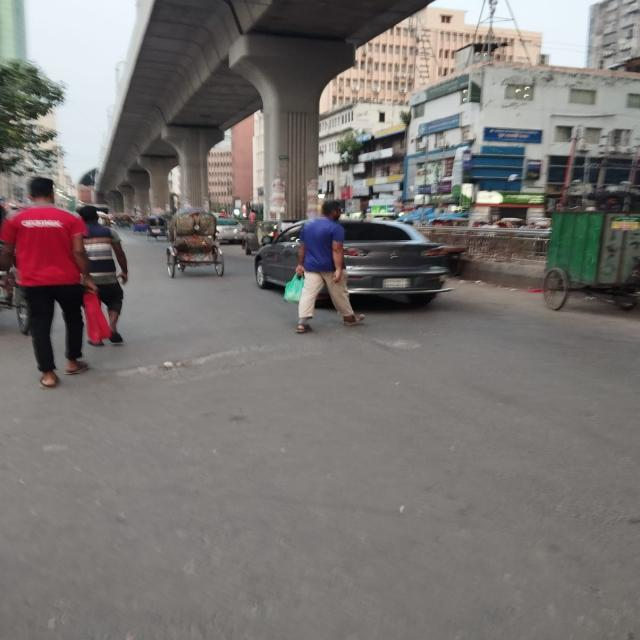person: (0, 178, 98, 389), (277, 200, 365, 334), (78, 205, 128, 347)
